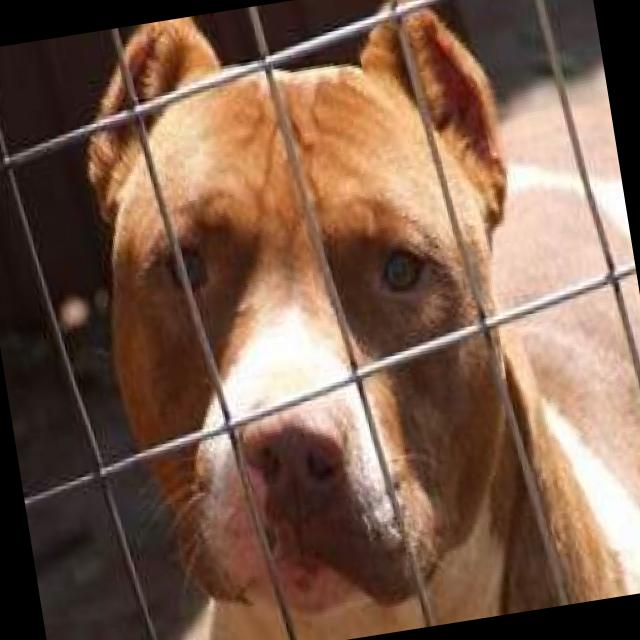animal: (59, 0, 640, 640)
